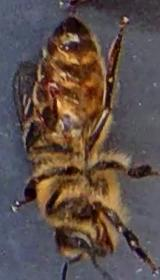varroa_mite: (31, 67, 66, 99)
